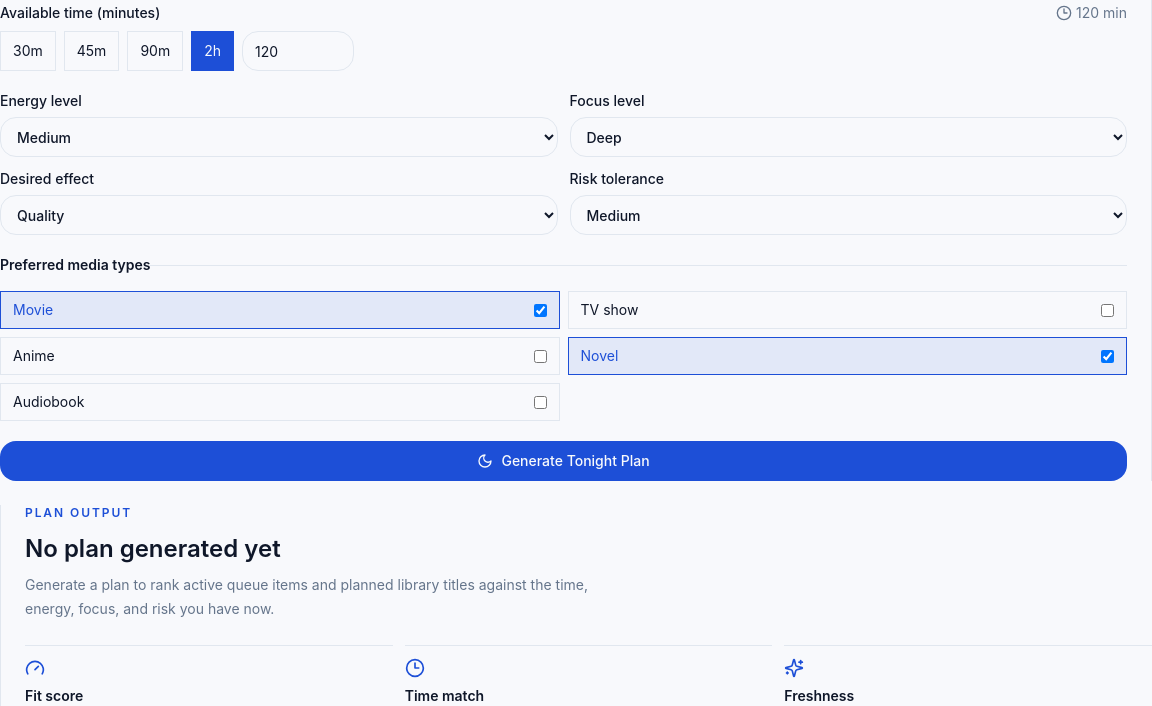
Test: TonightModePage › renders a compact check-in, visible constraints, and generated recommendation rows
(page scrolled)
Check: the element named "tonight plan" shows "No plan generated yet", box [25, 534, 281, 563]
Click the button "Generate Tonight Plan".
click(564, 461)  # box [0, 441, 1127, 481]
(page scrolled)
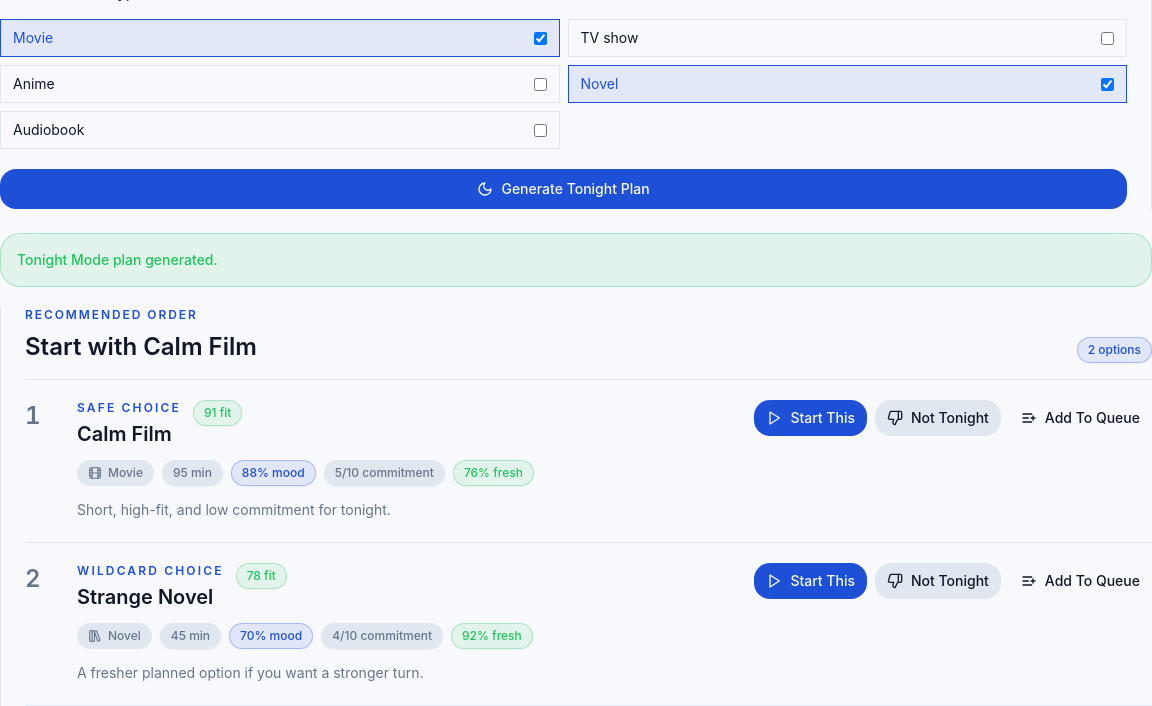
Check: the text "Tonight Mode plan generated." is shown, box [0, 233, 1151, 287]
Check: the heading "Start with Calm Film" is shown, box [25, 331, 257, 363]
Check: the text "Safe choice" is shown, box [77, 400, 181, 416]
